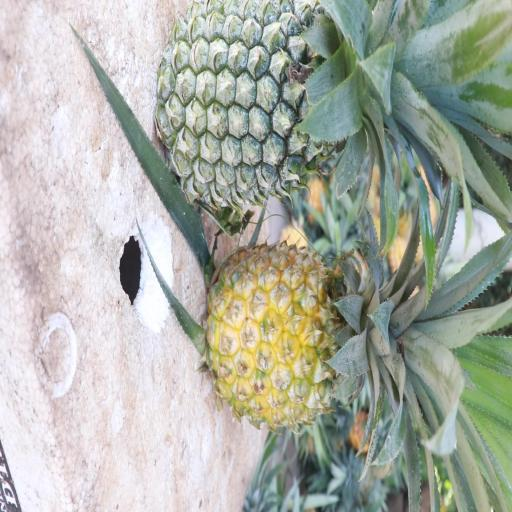Pineapple - v8 v1: (210, 226, 498, 463)
